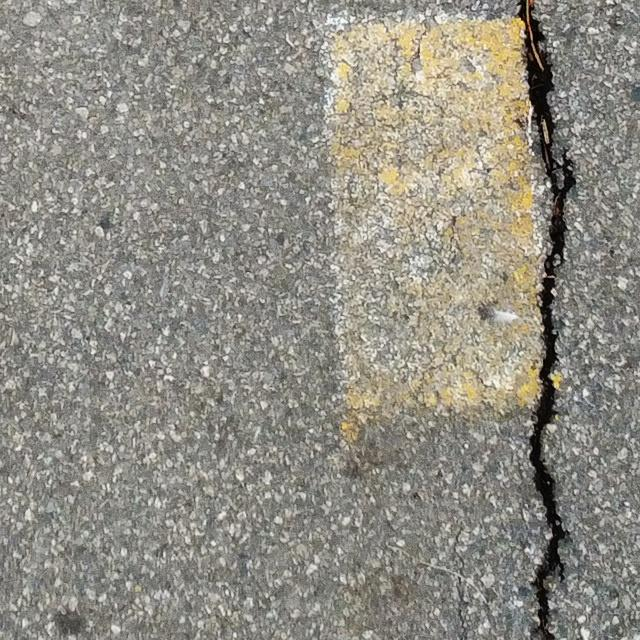LongitudinalCrack: (514, 1, 576, 640)
